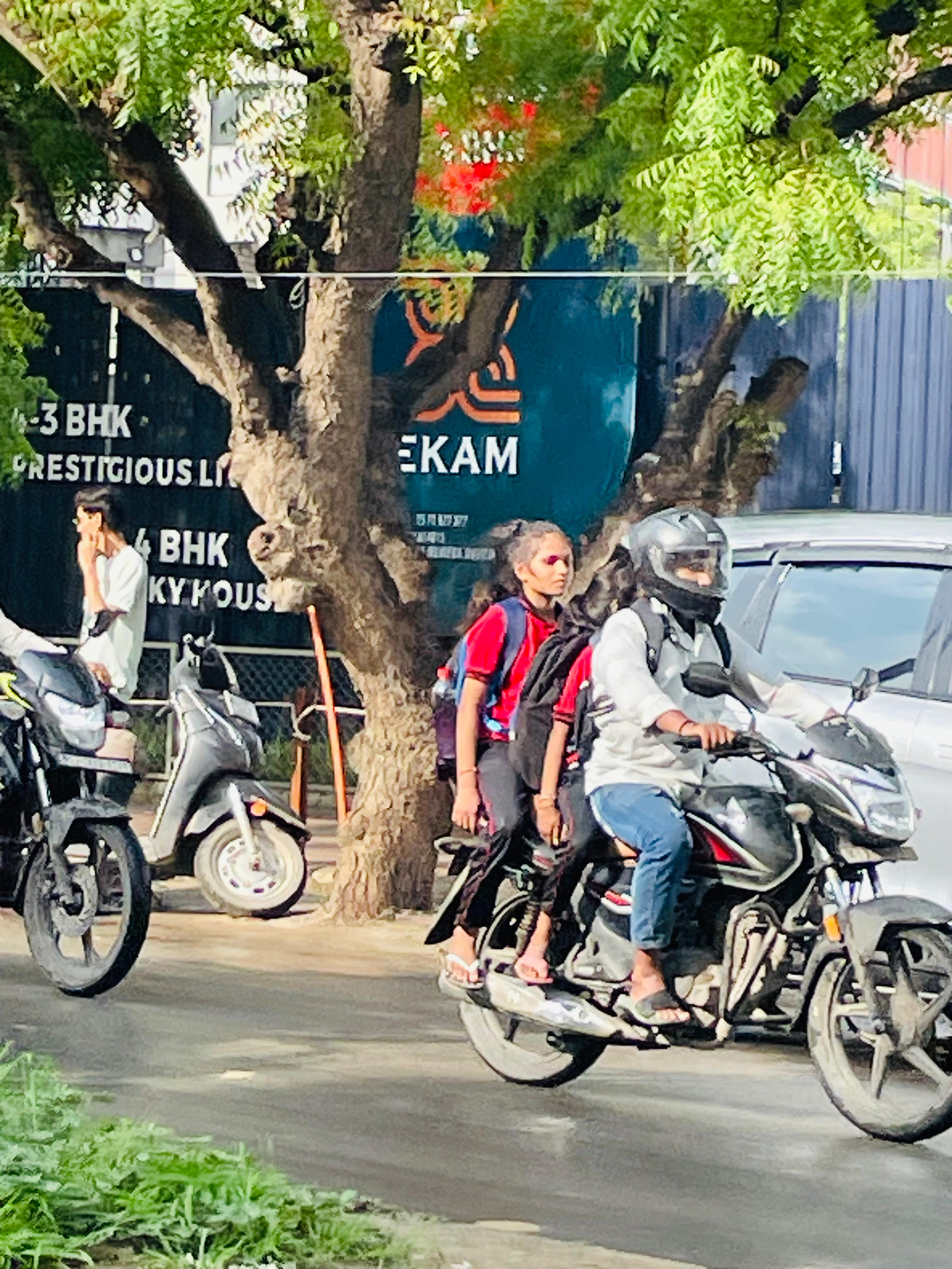BikeWithRider: (400, 460, 952, 1151)
Helmet: (613, 495, 753, 633)
NoHelmet: (480, 509, 582, 619)
